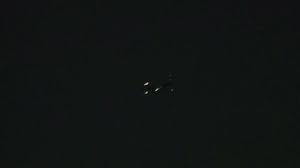Plane: (131, 77, 165, 98)
